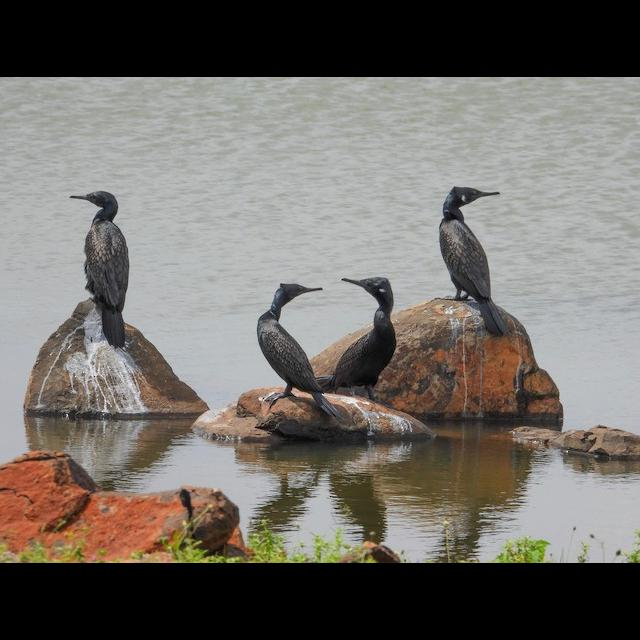cormorant: (61, 186, 138, 354), (436, 180, 510, 332), (235, 277, 322, 399), (338, 273, 404, 413)
